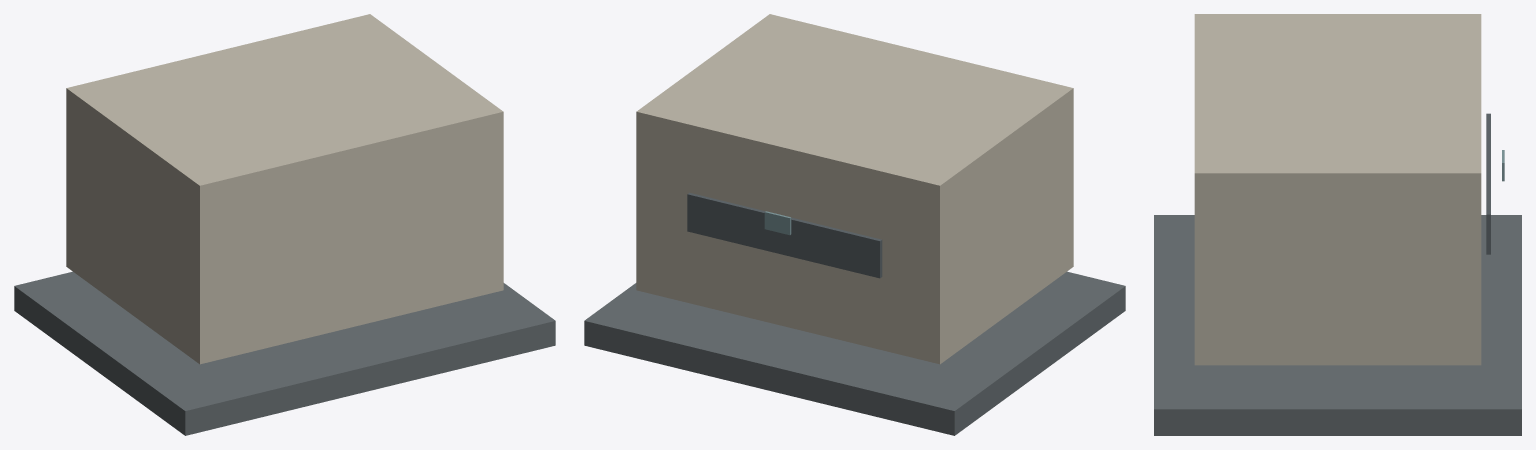
Rendered from iz3_prison_visiting_01.glb.
The picture shows the model from 3 angles, left to right: view 1: azimuth 30°, elevation 25°; view 2: azimuth 150°, elevation 25°; view 3: azimuth 270°, elevation 25°; orthographic projection. The views are drawn at different scales.
Visible parts, largest first — view 1: cabinet, base; view 2: cabinet, base, panel, display; view 3: cabinet, base, panel.
Part boxes in pixels (left/top/right/bottom): cabinet: left=66, top=14, right=503, bottom=364; base: left=14, top=271, right=555, bottom=435; cabinet: left=636, top=14, right=1073, bottom=364; base: left=584, top=271, right=1125, bottom=435; panel: left=687, top=192, right=882, bottom=278; display: left=764, top=211, right=791, bottom=235; cabinet: left=1194, top=14, right=1481, bottom=365; base: left=1154, top=215, right=1521, bottom=435; panel: left=1486, top=113, right=1490, bottom=254.
Bounding box in the file's own units: 5 × 2.94 × 4.
